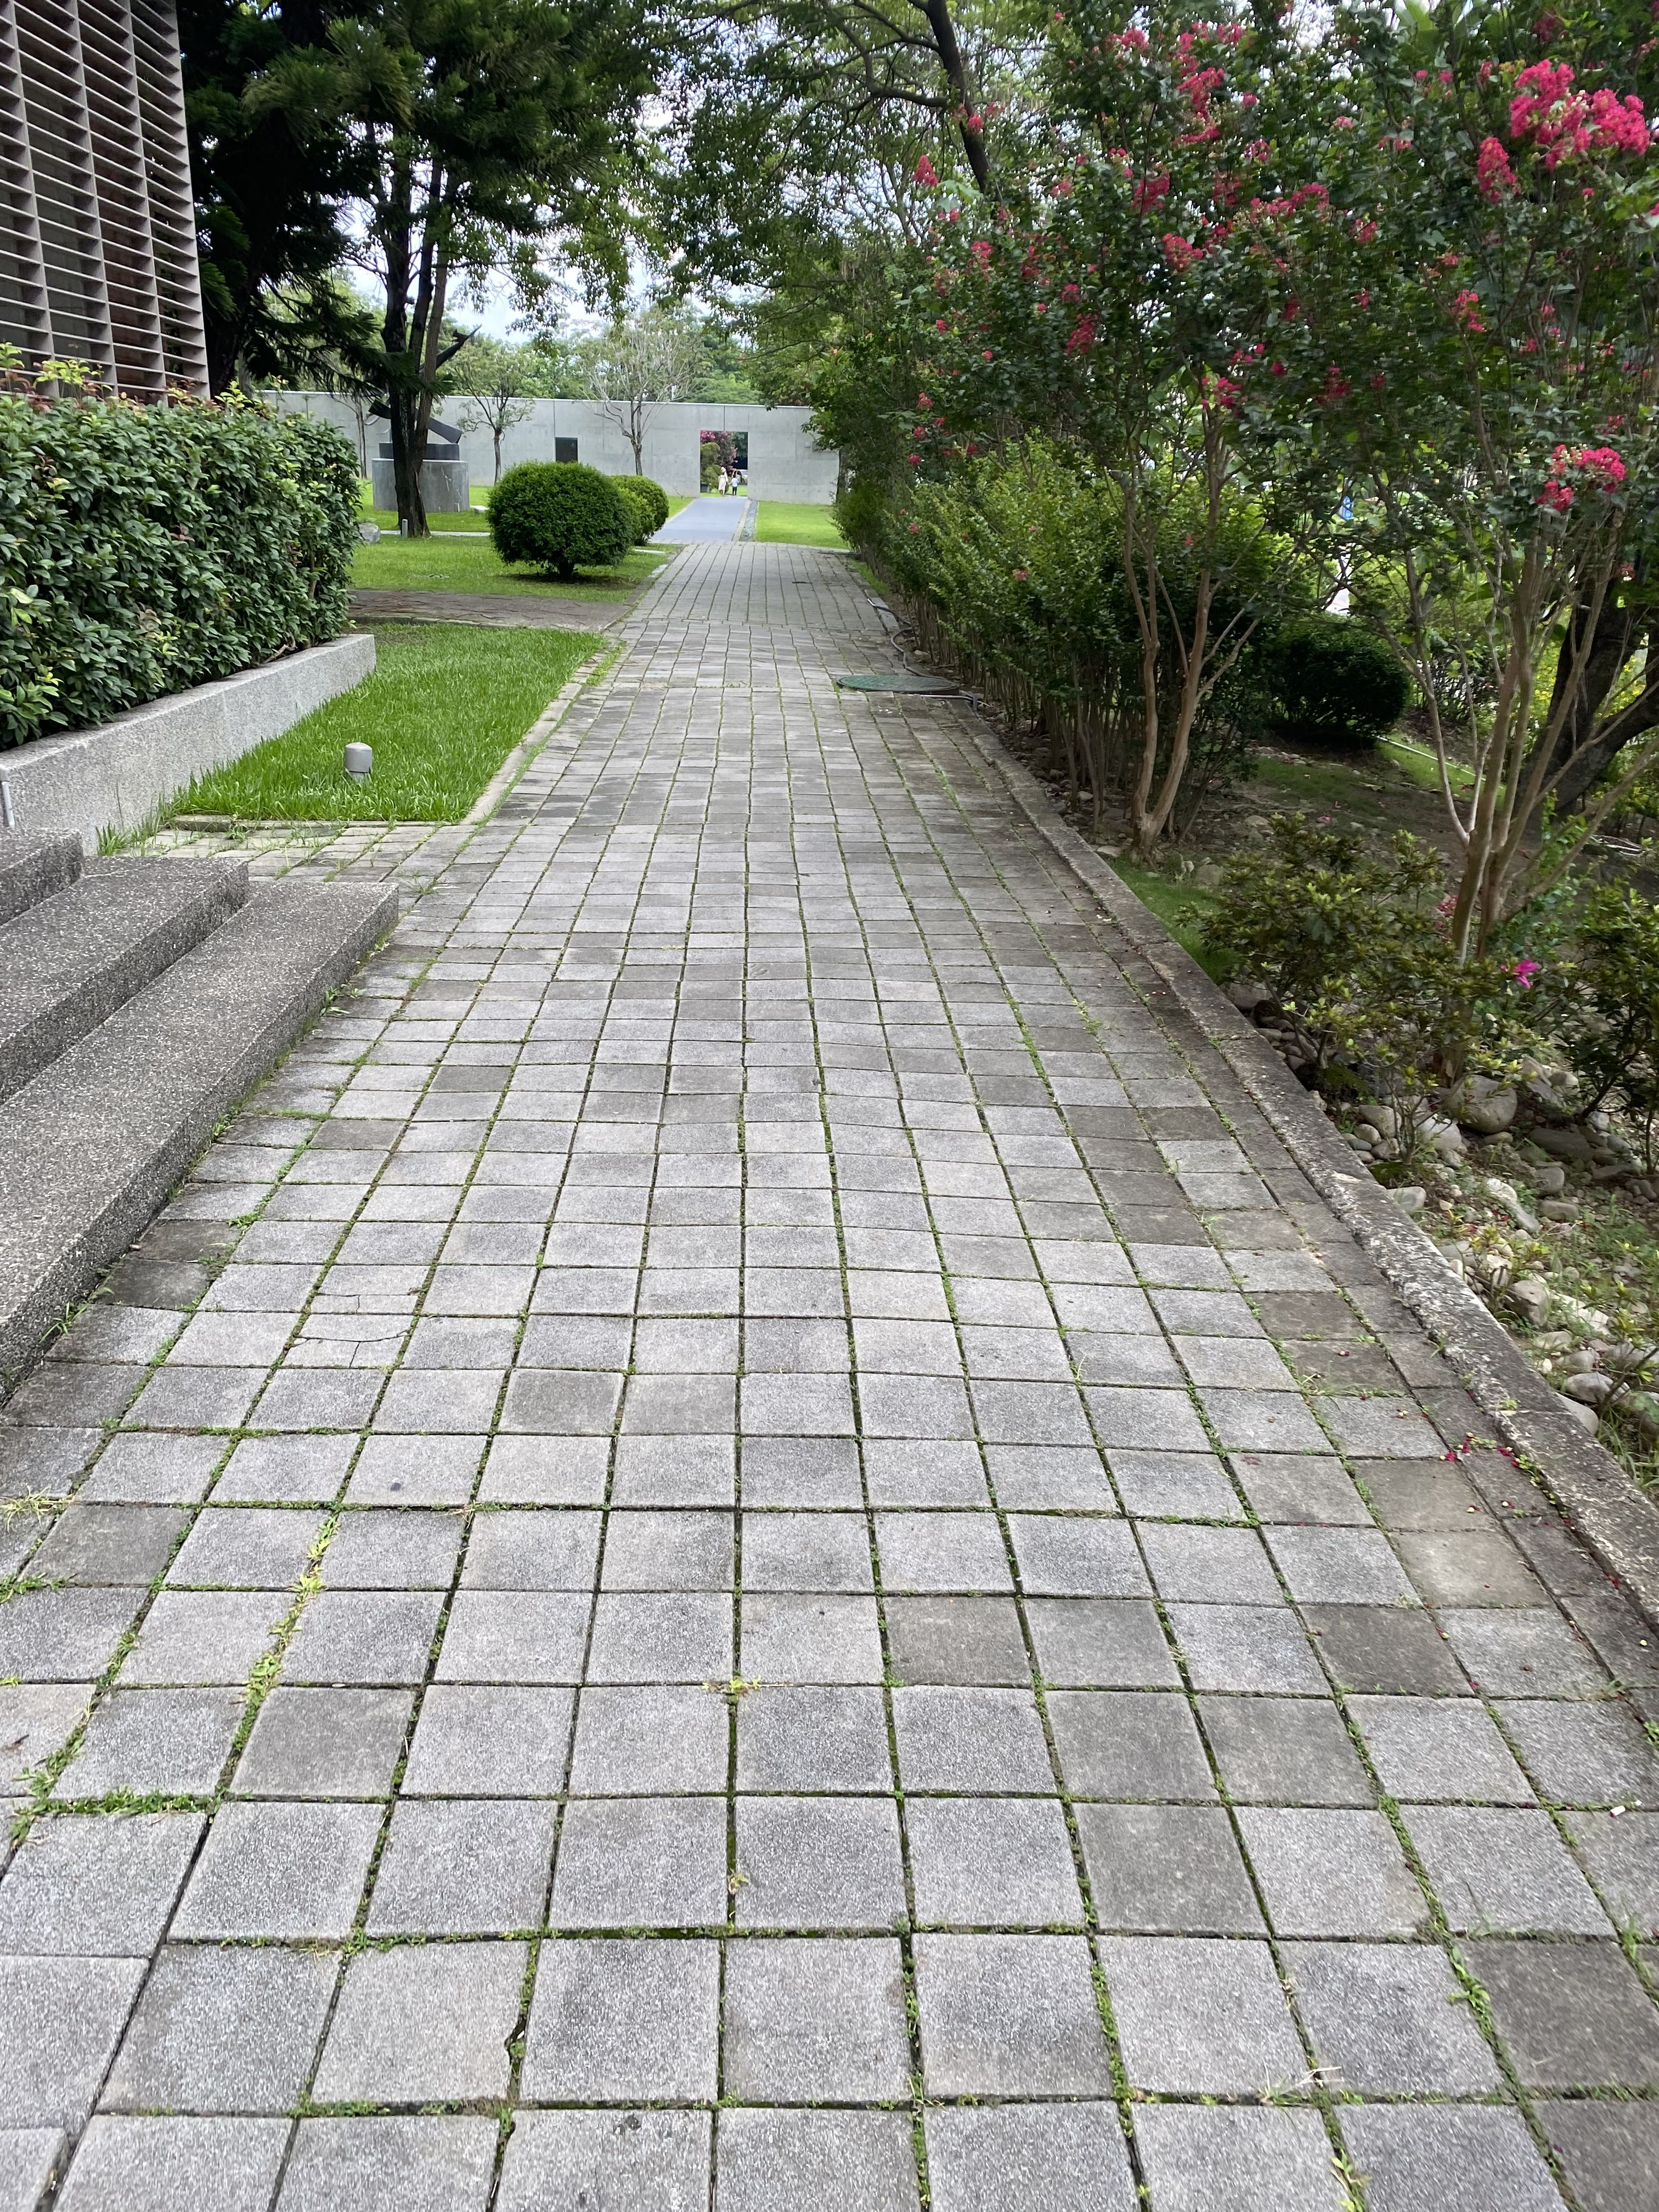0: (7, 564, 664, 2212)
sidewalk: (645, 533, 1659, 2212)
